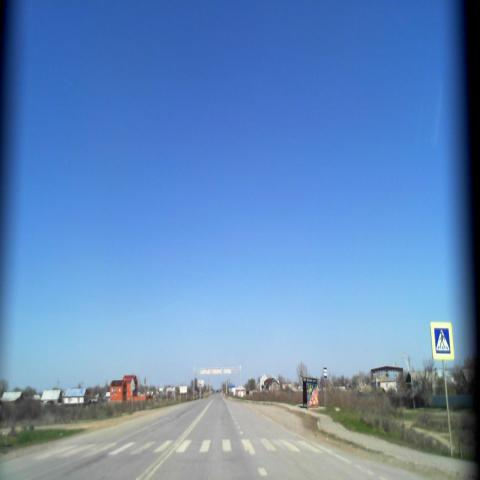5_19_1: (432, 322, 454, 360)
